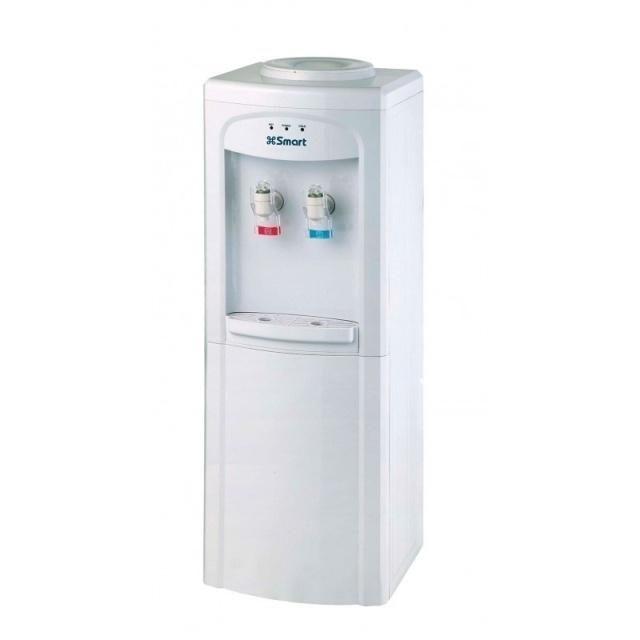Dispenser: (202, 57, 425, 604)
